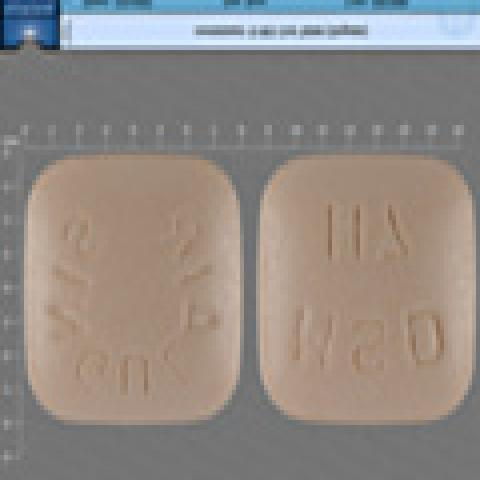Pill: (15, 142, 256, 449), (254, 147, 480, 452)
